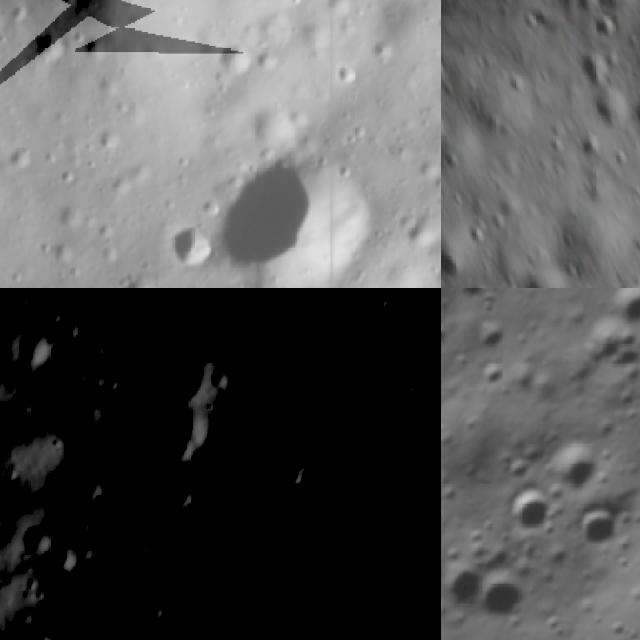crater: (209, 142, 383, 288), (118, 335, 219, 415), (531, 427, 616, 511), (461, 556, 547, 639), (490, 470, 567, 549), (210, 566, 290, 640), (562, 494, 632, 565), (148, 405, 225, 468), (609, 324, 640, 475), (441, 555, 495, 624), (454, 308, 516, 368), (256, 439, 316, 497), (161, 217, 218, 278), (22, 21, 75, 74), (597, 288, 640, 336), (265, 606, 317, 640), (154, 308, 198, 348), (16, 518, 55, 561), (130, 568, 167, 610), (445, 288, 499, 316), (218, 39, 258, 76), (69, 465, 109, 502), (370, 462, 407, 500), (18, 329, 54, 367), (163, 480, 199, 516), (514, 262, 563, 288), (408, 466, 439, 506), (586, 10, 620, 44), (196, 540, 230, 574), (183, 491, 215, 527), (48, 543, 86, 572), (278, 556, 312, 588), (7, 144, 35, 176), (91, 126, 123, 154), (256, 49, 281, 77), (59, 314, 84, 341), (368, 288, 394, 313), (396, 374, 419, 399), (435, 72, 441, 121)
